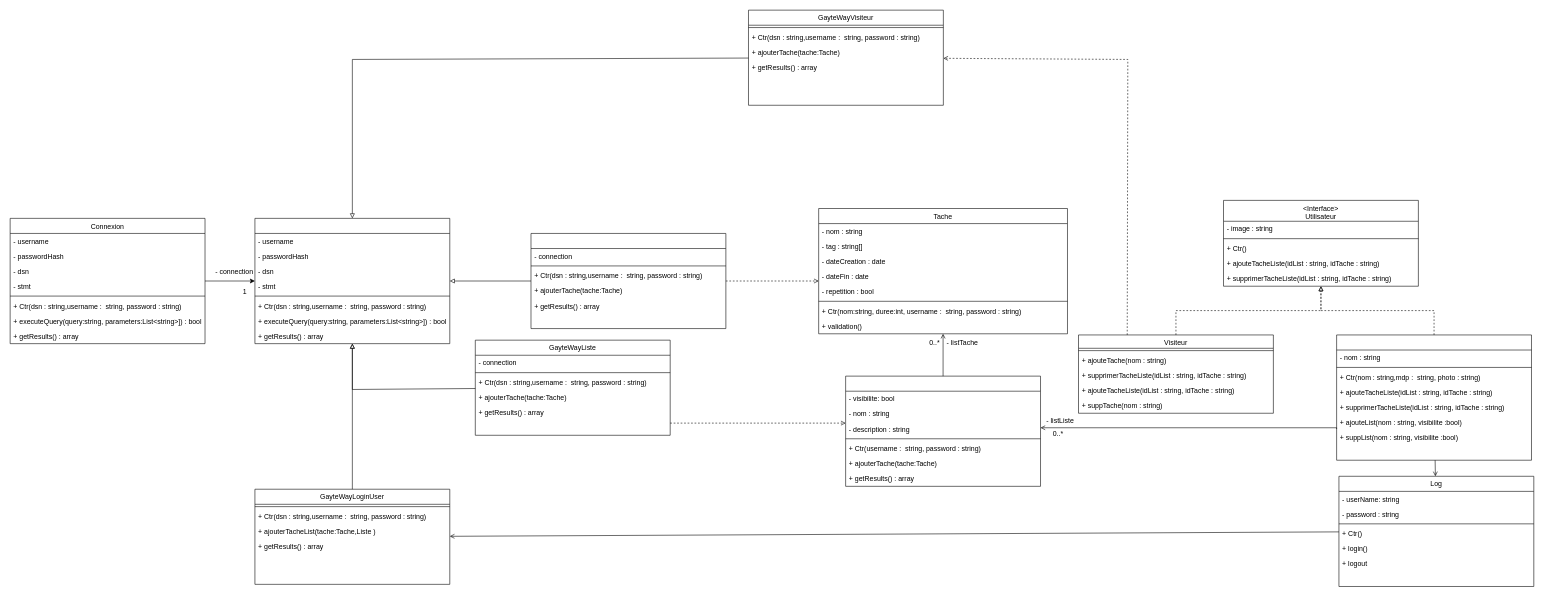
Image size: 1544x597. Some labels were removed from this diagram. The shapes that lost their labels are listed below. From the top down, each one's box as (x1, y1, x2, y2) in pixels, then its label:
(254, 218, 450, 344): GateWay
(530, 233, 726, 329): GayteWayTache
(1336, 334, 1531, 460): UserCompte
(845, 376, 1041, 486): Liste
